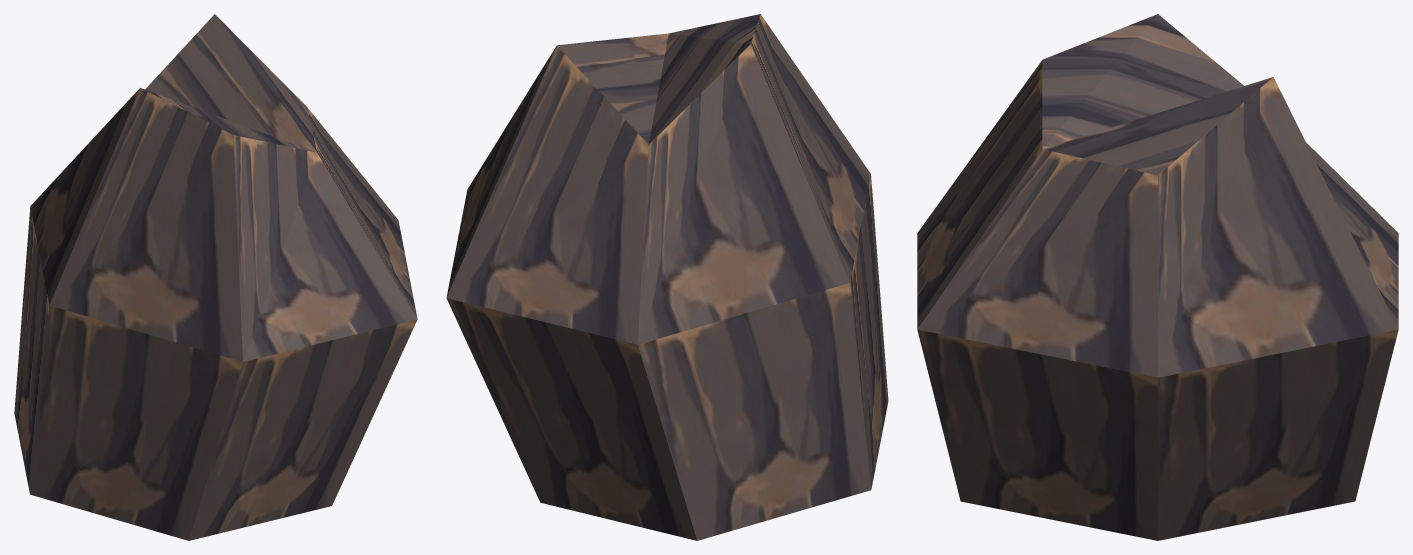
Rendered from SM_RC_Terrain_Rock_Medium_A.gltf.
3 views of the same model, side by side, from view 1: azimuth 30°, elevation 25°; view 2: azimuth 150°, elevation 25°; view 3: azimuth 270°, elevation 25° (orthographic). The views are drawn at different scales.
Parts seen in each view (by area): view 1: SM_RC_Terrain_Rock_Medium_A; view 2: SM_RC_Terrain_Rock_Medium_A; view 3: SM_RC_Terrain_Rock_Medium_A.
Boxes of the visible parts, x1,y1,x2,y2 form: SM_RC_Terrain_Rock_Medium_A: (14,14,417,540); SM_RC_Terrain_Rock_Medium_A: (446,14,888,540); SM_RC_Terrain_Rock_Medium_A: (917,14,1398,540).
Size of the model in its own units: 3 by 3 by 3.
1 material, 1 textured.
